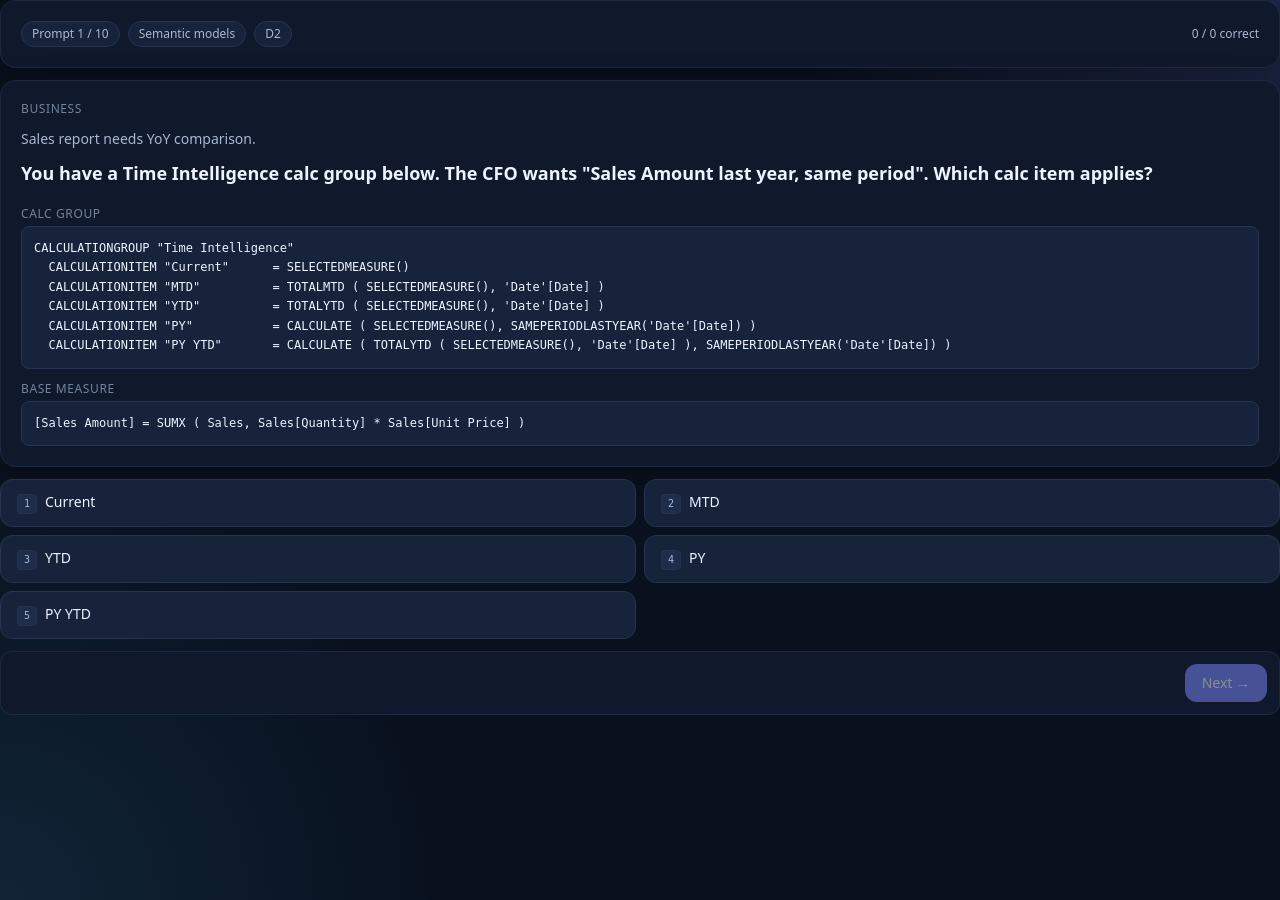
Test case: CalcGroupsLabView › 5. clicking a wrong option shows Incorrect and the why-wrong note
Click the radio button labelled "1 Current". click: (70, 502)
box: [0,479,636,527]
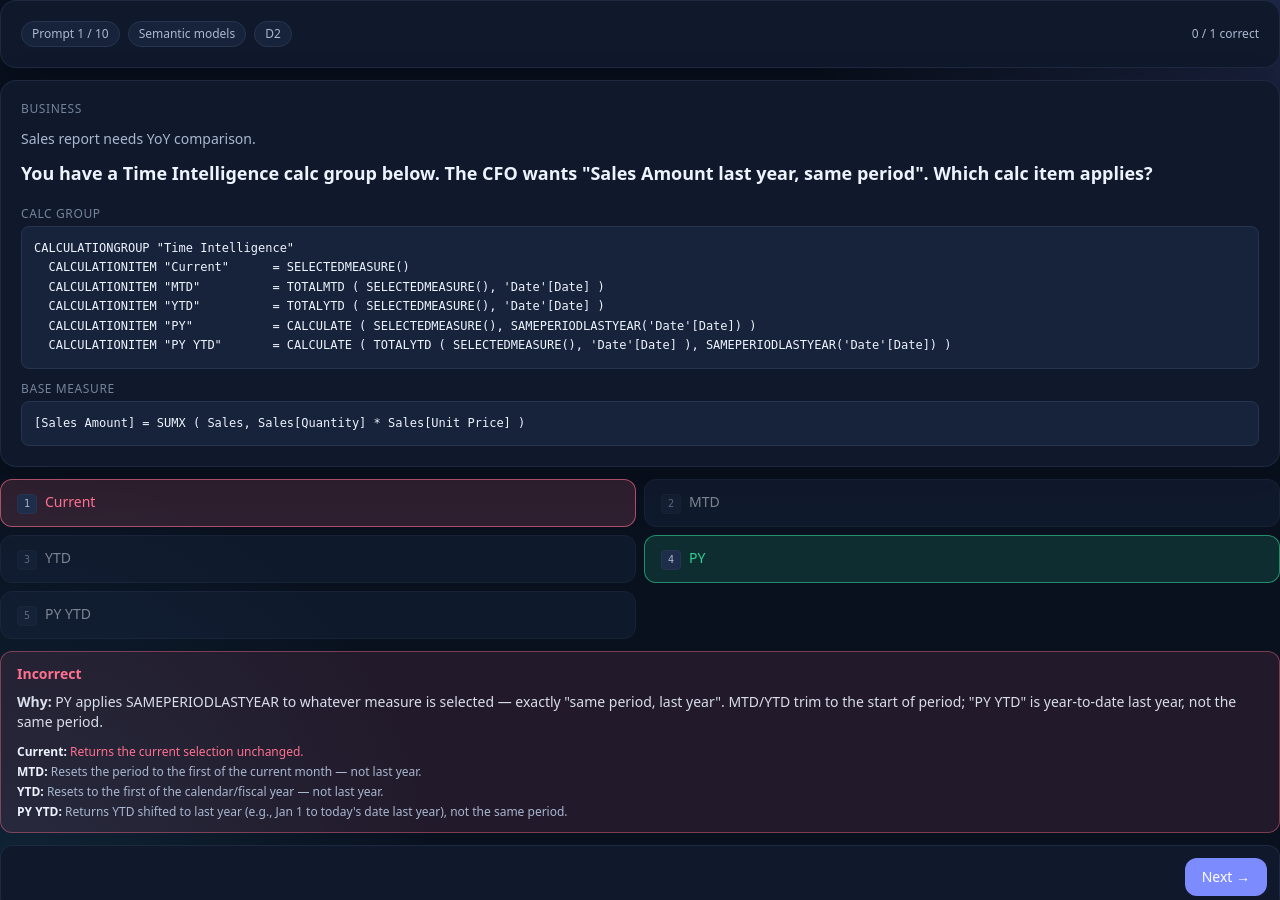
Expected: the text "Incorrect" is shown, [17,664,82,683]
